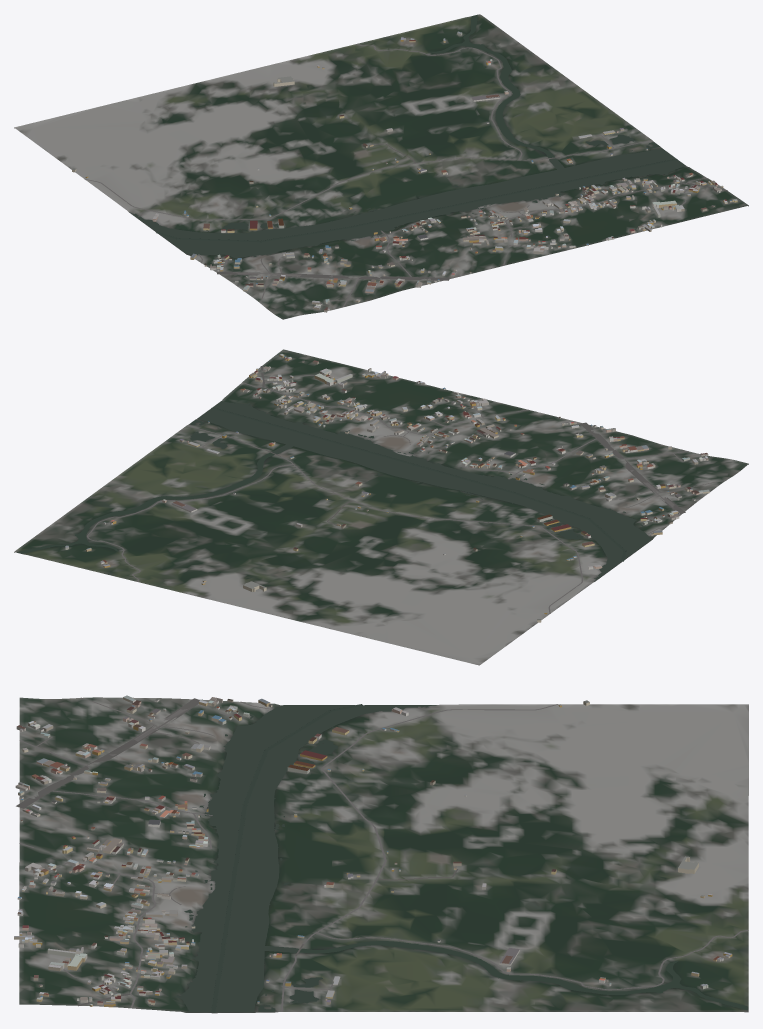
3 renders of one model, top to bottom at view 1: azimuth 30°, elevation 25°; view 2: azimuth 150°, elevation 25°; view 3: azimuth 270°, elevation 25°, orthographic. The views are drawn at different scales.
Visible parts, largest first — view 1: ground, water, buildings, roads; view 2: ground, water, buildings, roads; view 3: ground, water, buildings, roads.
Boxes of the visible parts, x1,y1,x2,y2 form: ground: [14, 14, 748, 319]; water: [129, 14, 685, 258]; buildings: [72, 31, 737, 312]; roads: [84, 44, 727, 307]; ground: [14, 349, 748, 665]; water: [17, 401, 650, 581]; buildings: [65, 354, 709, 622]; roads: [87, 366, 726, 613]; ground: [19, 697, 748, 1013]; water: [174, 704, 747, 1012]; buildings: [14, 695, 732, 1007]; roads: [16, 697, 748, 1011].
Bounding box in the file's own units: 1411 × 28.08 × 1412.
